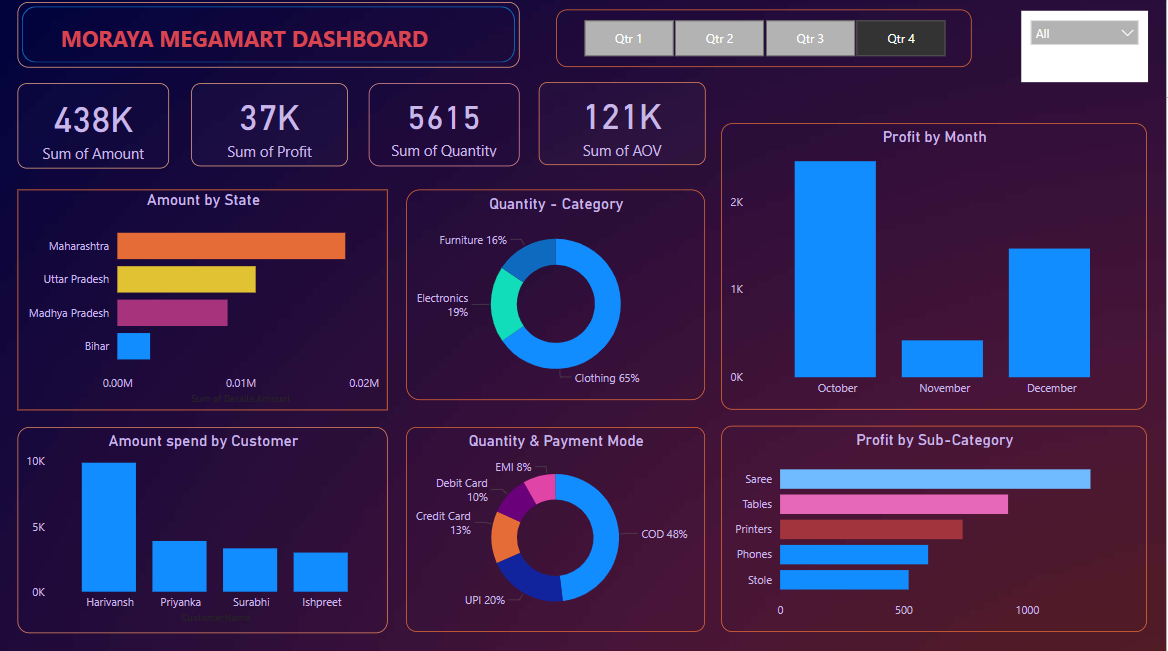

The dashboard page shown, as its layout file describes it:
{"tool":"powerbi","page":{"name":"Page 1","canvas":[1280,720],"ordinal":0},"visuals":[{"type":"shape","box":[19.3,5.5,551.3,71.7],"z":0},{"type":"textbox","box":[61.7,24.7,422.6,42.5],"z":1000},{"type":"card","fields":{"Values":["Details.Amount"]},"box":[19.3,95.1,166.8,93.7],"z":2000},{"type":"card","fields":{"Values":["Details.Profit"]},"box":[209.5,95.1,172.3,91],"z":3000},{"type":"card","fields":{"Values":["Details.Quantity"]},"box":[405.2,95.1,165.4,91],"z":4000},{"type":"columnChart","title":"Amount spend by Customer","fields":{"Category":["Orders.CustomerName"],"Y":["Orders.Details.Amount"]},"box":[19.3,472.7,406.5,226],"z":4001},{"type":"barChart","title":"Amount by State","fields":{"Category":["Orders.State"],"Y":["Orders.Details.Amount"]},"box":[19.3,210.9,406.5,242.6],"z":4002},{"type":"donutChart","title":"Quantity - Category","fields":{"Category":["Orders.Details.Category"],"Y":["Orders.Details.Quantity"]},"box":[446.5,210.9,328,231.5],"z":4003},{"type":"donutChart","title":"Quantity & Payment Mode","fields":{"Category":["Orders.Details.PaymentMode"],"Y":["Orders.Details.Quantity"]},"box":[446.5,472.7,328,224.6],"z":4004},{"type":"barChart","title":"Profit by Sub-Category","fields":{"Category":["Orders.Details.Sub-Category"],"Y":["Orders.Details.Profit"]},"box":[792.4,471.3,467.2,226],"z":4005},{"type":"columnChart","title":"Profit by Month","fields":{"Category":["Orders.Order Date.Variation.Date Hierarchy.Month"],"Y":["Orders.Details.Profit"]},"box":[792.4,139.2,467.2,314.2],"z":4006},{"type":"card","fields":{"Values":["Details.AOV"]},"box":[591.2,93.7,183.3,91],"z":4007},{"type":"slicer","fields":{"Values":["Orders.Order Date.Variation.Date Hierarchy.Quarter"]},"box":[610.5,13.8,456.2,63.4],"z":4008},{"type":"slicer","fields":{"Values":["Orders.State"]},"box":[1120.4,15.2,139.2,78.6],"z":4009}]}

Visuals, with their boxes in screenshot pixels (x1, y1, x2, y2), scaled from the page's 1280x720 canvas onto the 1168x651 screenshot:
shape: locate(18, 5, 521, 70)
textbox: locate(56, 22, 442, 61)
card - Details.Amount: locate(18, 86, 170, 171)
card - Details.Profit: locate(191, 86, 348, 168)
card - Details.Quantity: locate(370, 86, 521, 168)
"Amount spend by Customer" columnChart: locate(18, 427, 389, 632)
"Amount by State" barChart: locate(18, 191, 389, 410)
"Quantity - Category" donutChart: locate(407, 191, 707, 400)
"Quantity & Payment Mode" donutChart: locate(407, 427, 707, 630)
"Profit by Sub-Category" barChart: locate(723, 426, 1149, 630)
"Profit by Month" columnChart: locate(723, 126, 1149, 410)
card - Details.AOV: locate(539, 85, 707, 167)
slicer - Orders.Order Date.Variation.Date Hierarchy.Quarter: locate(557, 12, 973, 70)
slicer - Orders.State: locate(1022, 14, 1149, 85)
